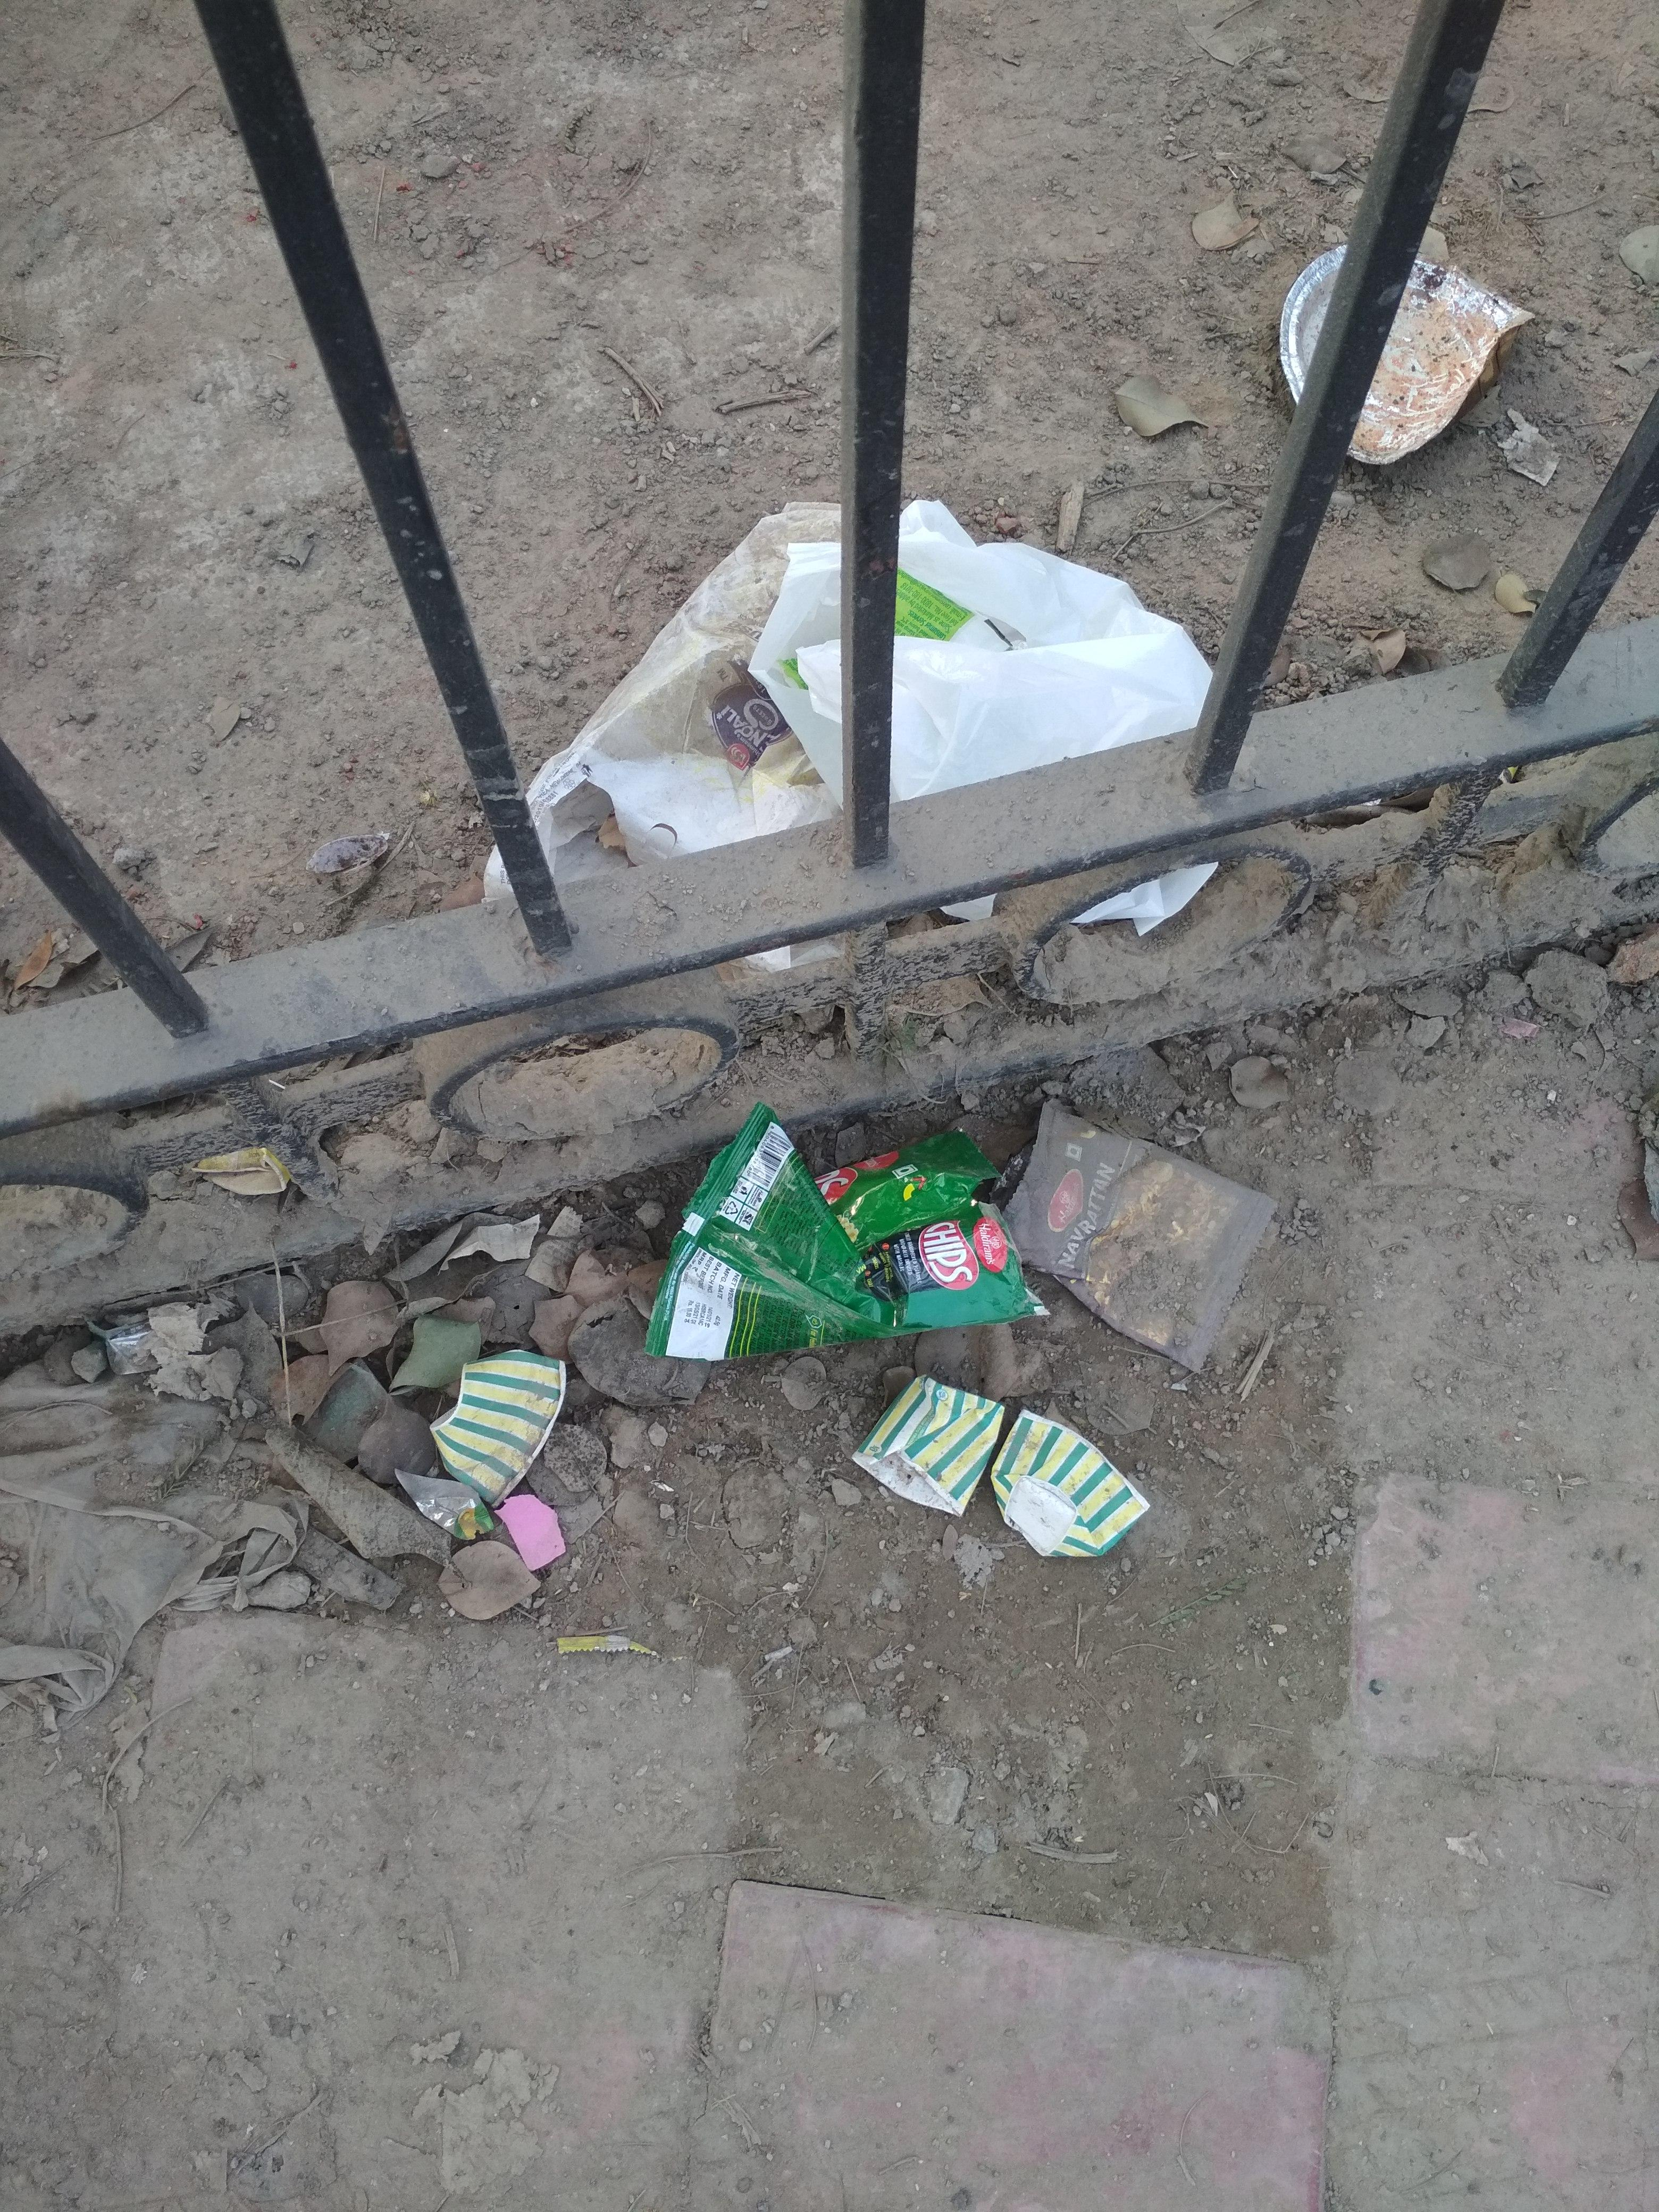trash: (483, 246, 1536, 1586)
